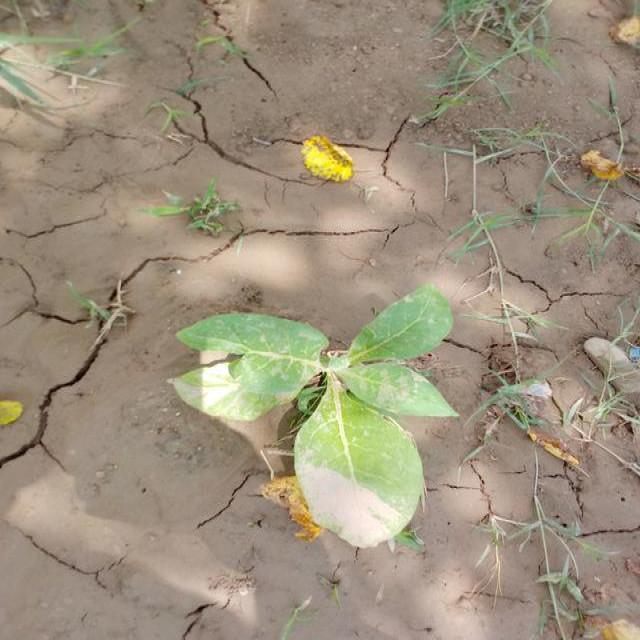crop: (191, 293, 460, 554)
